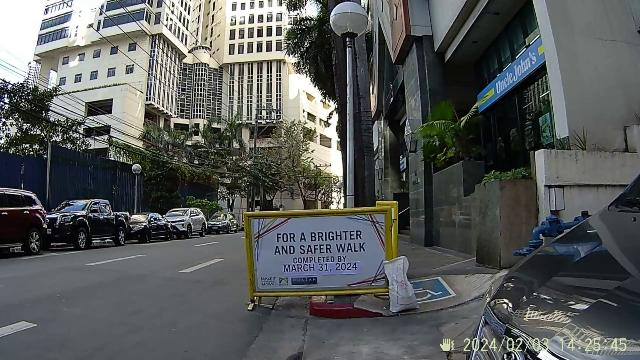car: (49, 196, 134, 246), (0, 194, 54, 262), (152, 209, 206, 236), (122, 209, 170, 239), (196, 206, 234, 234)
construction_materials: (238, 202, 414, 306)
lamp_post: (320, 0, 378, 204), (128, 160, 144, 208)
